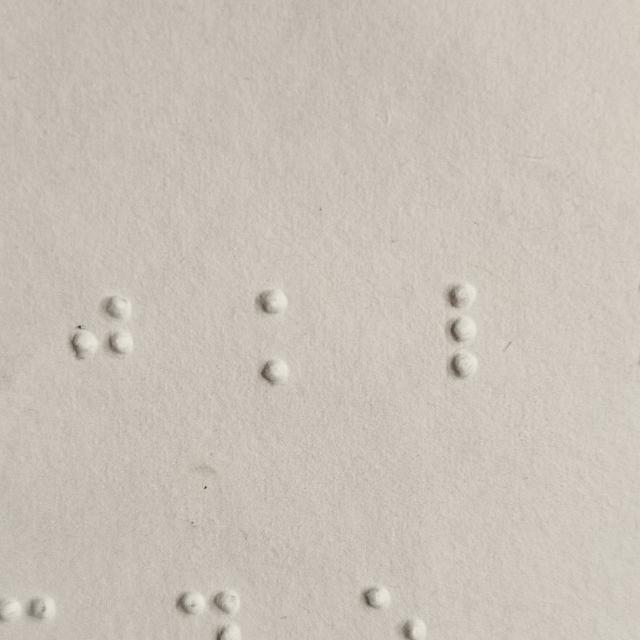hakbang: (64, 294, 134, 400)
kaya: (256, 284, 326, 389)
lamang: (446, 279, 515, 384)
